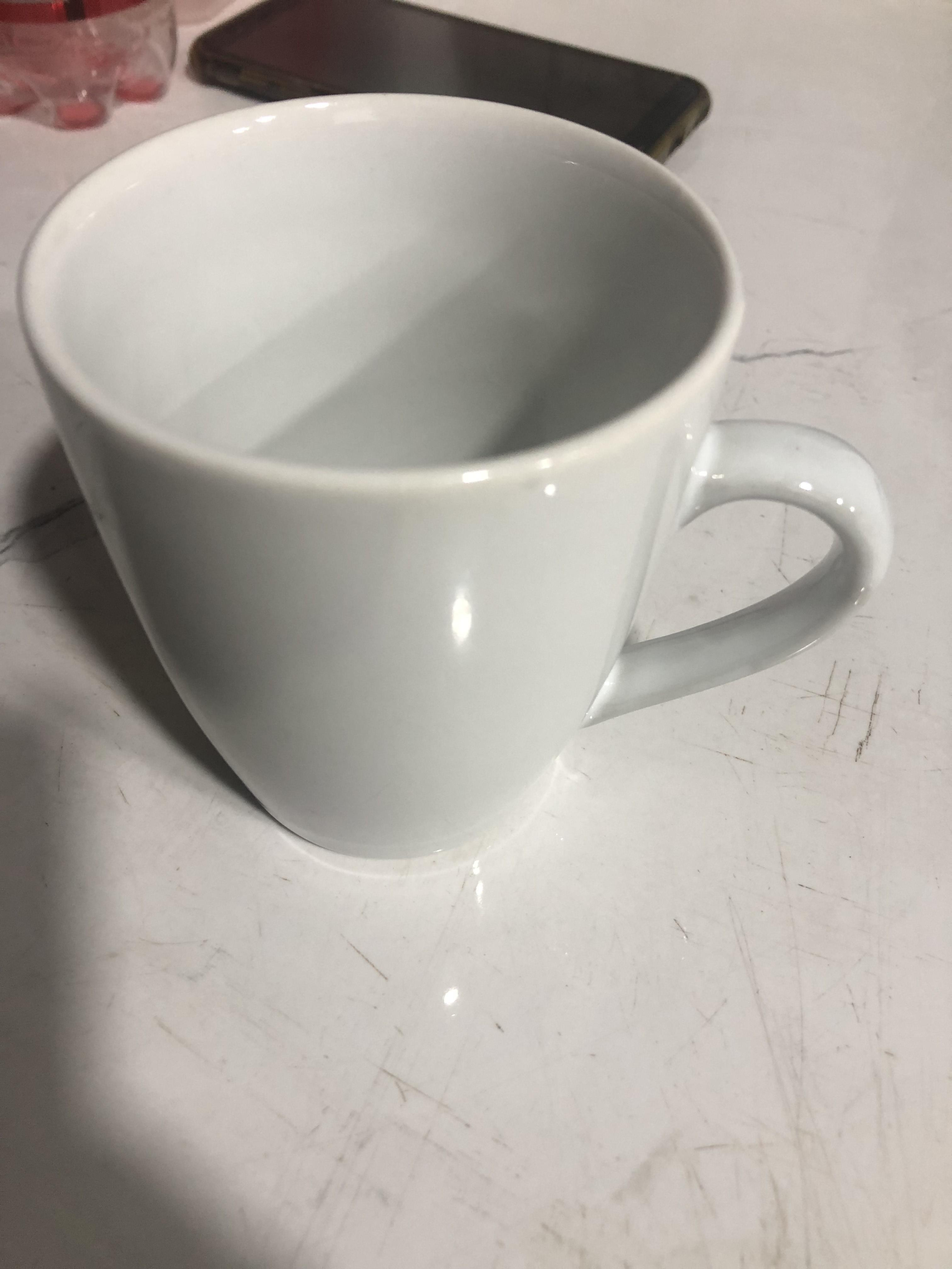cup-handle: (17, 90, 898, 863)
